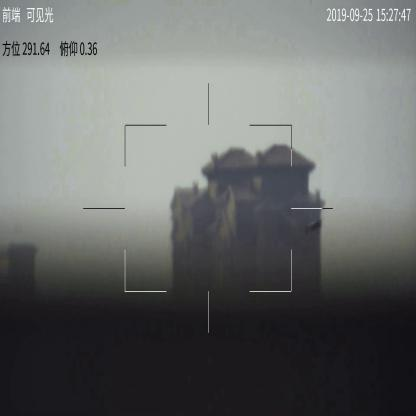uav: (306, 218, 322, 236)
